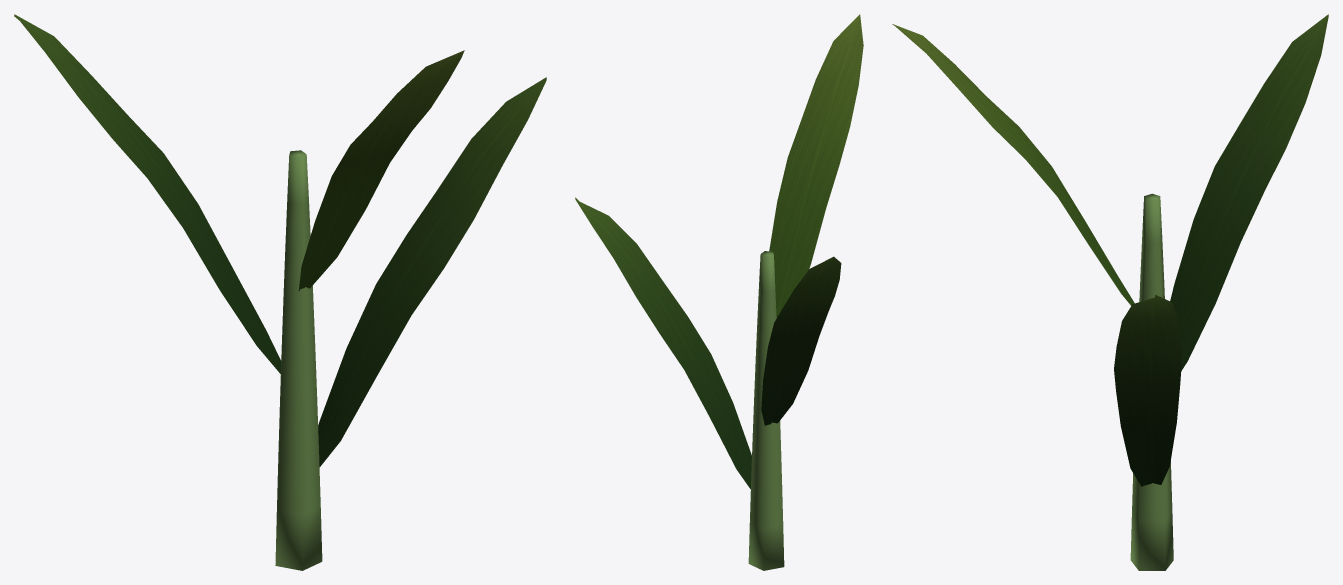
File: iris-02-lod.glb
3 views of the same model, side by side, from view 1: azimuth 30°, elevation 25°; view 2: azimuth 150°, elevation 25°; view 3: azimuth 270°, elevation 25° (orthographic). The views are drawn at different scales.
Visible parts, largest first — view 1: iris_stage_02_leaf_veins.003, iris_stage_02_stem_fibres.003, iris_stage_02_young_leaf.003; view 2: iris_stage_02_leaf_veins.003, iris_stage_02_young_leaf.003, iris_stage_02_stem_fibres.003; view 3: iris_stage_02_leaf_veins.003, iris_stage_02_stem_fibres.003, iris_stage_02_young_leaf.003.
Boxes of the visible parts, x1,y1,x2,y2 form: iris_stage_02_leaf_veins.003: (14,14,546,466); iris_stage_02_stem_fibres.003: (275,150,322,570); iris_stage_02_young_leaf.003: (298,50,464,291); iris_stage_02_leaf_veins.003: (575,197,841,489); iris_stage_02_young_leaf.003: (769,14,863,317); iris_stage_02_stem_fibres.003: (748,251,784,570); iris_stage_02_leaf_veins.003: (1114,14,1328,486); iris_stage_02_stem_fibres.003: (1130,193,1173,570); iris_stage_02_young_leaf.003: (892,24,1134,305).
Bounding box in the file's own units: 0.0799 × 0.1068 × 0.0769.
3 materials, 2 textured.
